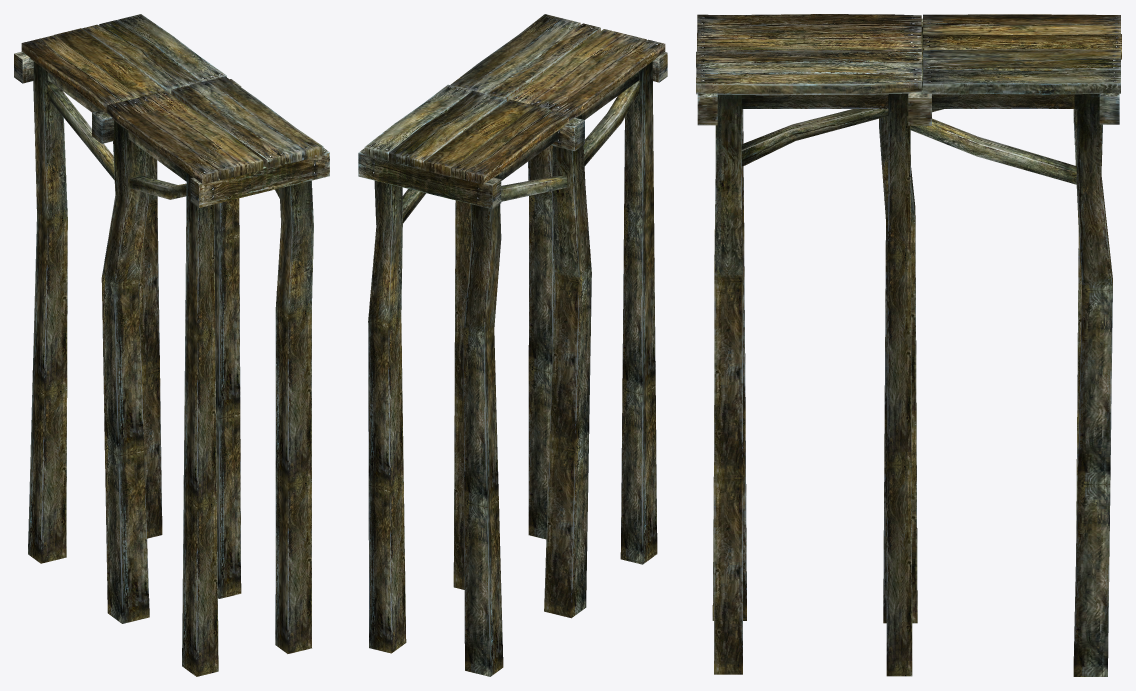
Rendered from most_2.glb.
3 renders of one model, left to right at view 1: azimuth 30°, elevation 25°; view 2: azimuth 150°, elevation 25°; view 3: azimuth 270°, elevation 25°, orthographic. The views are drawn at different scales.
Visible parts, largest first — view 1: most_2-col; view 2: most_2-col; view 3: most_2-col.
Boxes of the visible parts, left/top/right/bottom form: most_2-col: left=14, top=14, right=329, bottom=676; most_2-col: left=358, top=14, right=667, bottom=676; most_2-col: left=696, top=14, right=1121, bottom=676.
Size of the model in its own units: 3.45 by 12.03 by 7.81.
Materials: 5 (5 with a texture image).
